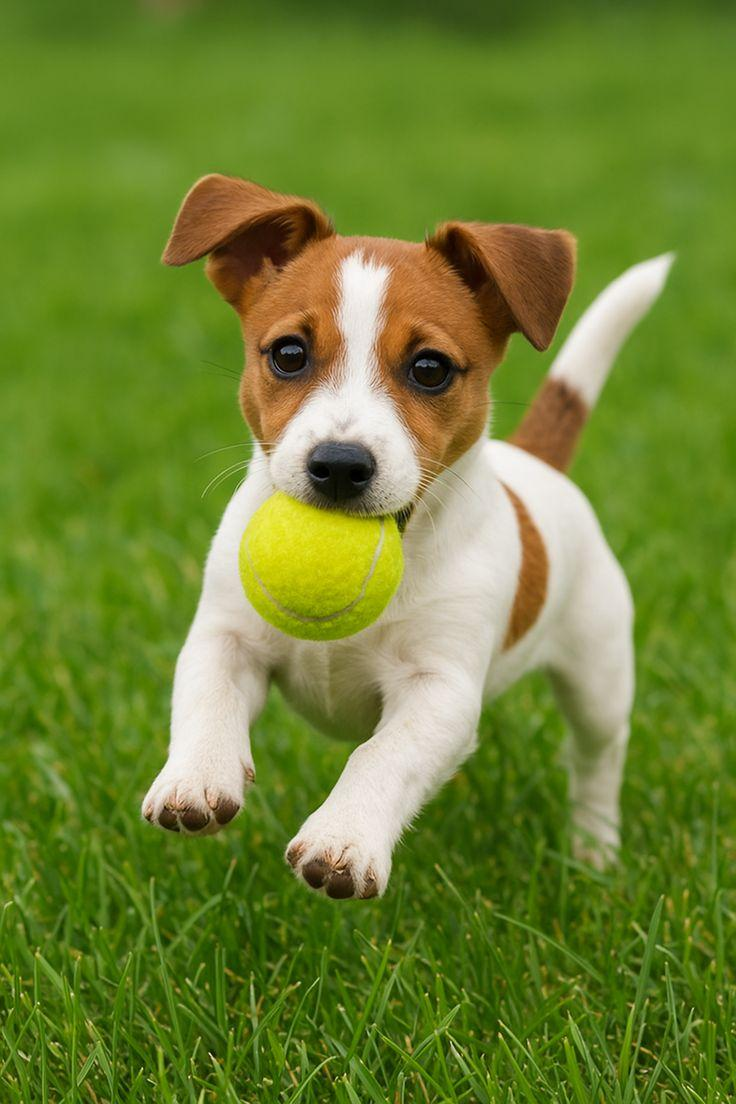dog: (143, 175, 670, 896)
